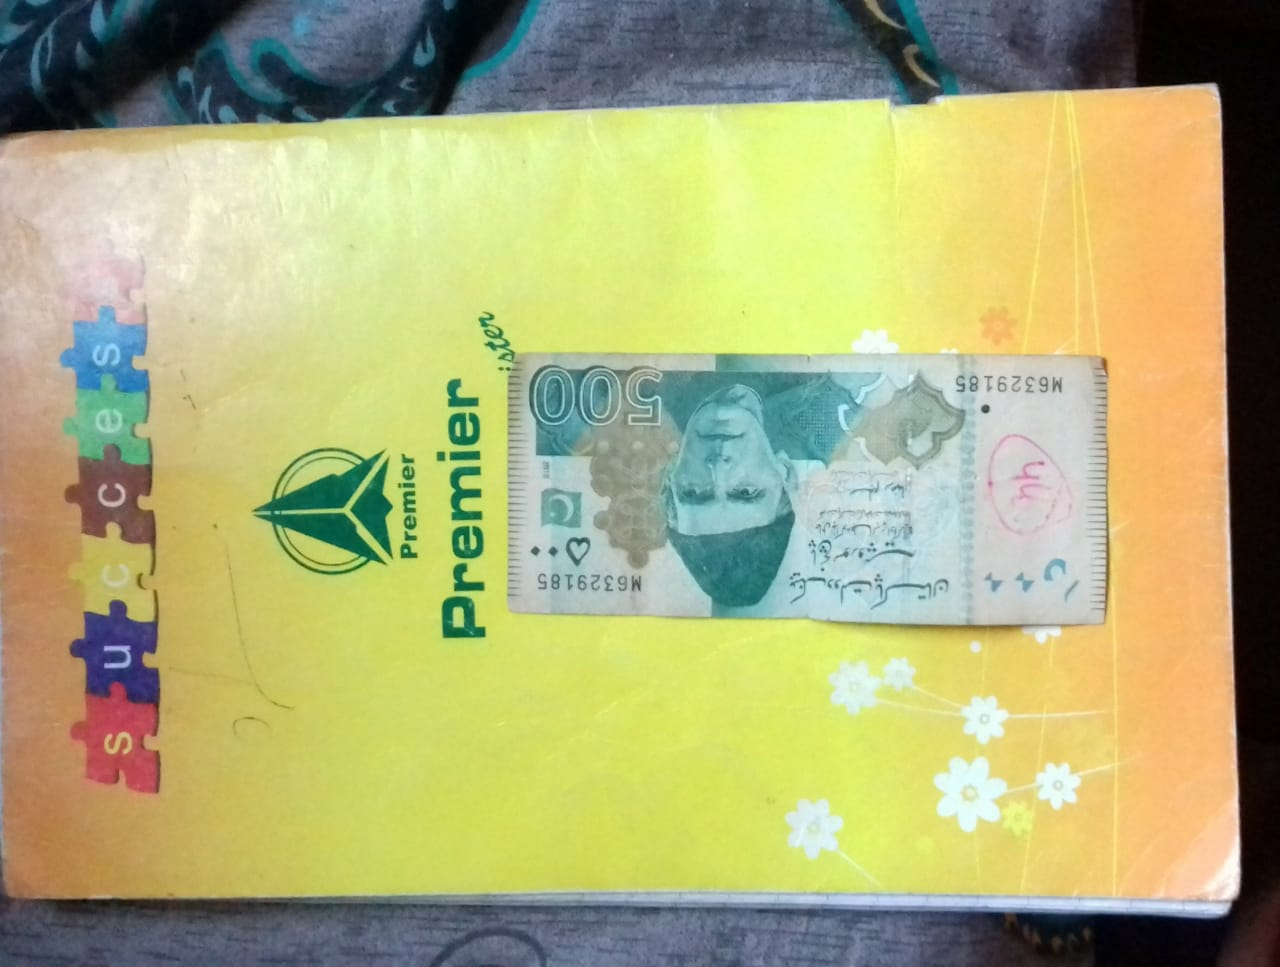500 rupee: (496, 339, 1126, 652)
